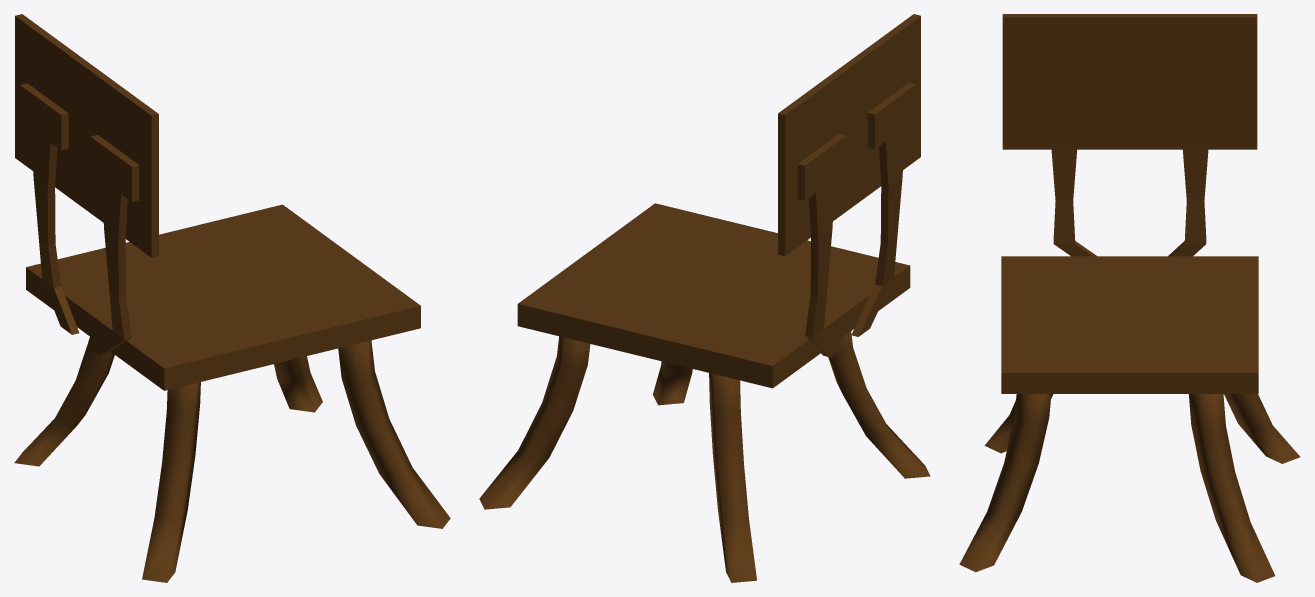
The model's file is Chair_GameTest.fbx.
3 renders of one model, left to right at view 1: azimuth 30°, elevation 25°; view 2: azimuth 150°, elevation 25°; view 3: azimuth 270°, elevation 25°, orthographic. The views are drawn at different scales.
Parts seen in each view (by area): view 1: Chair.001; view 2: Chair.001; view 3: Chair.001.
Boxes of the visible parts, x1=… form: Chair.001: x1=14, y1=14, x2=450, y2=582; Chair.001: x1=479, y1=14, x2=930, y2=582; Chair.001: x1=959, y1=14, x2=1300, y2=582.
Bounding box in the file's own units: 251 × 348 × 251.
